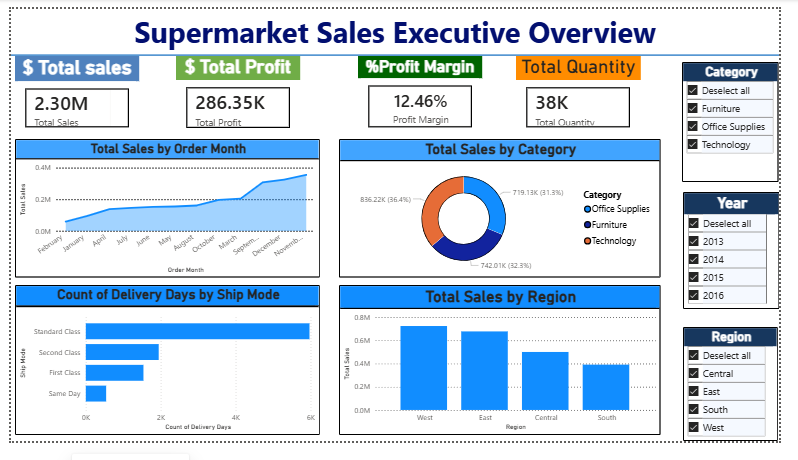

Layout of this report page (visuals, bound fields, positions):
{"tool":"powerbi","page":{"name":"Executive Overview","canvas":[1280,720],"ordinal":0},"visuals":[{"type":"textbox","box":[0,0,1280.5,87.8],"z":0},{"type":"shape","box":[0,0,1280.5,153.7],"z":1000},{"type":"cardVisual","title":"$ Total sales","fields":{"Data":["Supermarket sales.Total Sales"]},"box":[7.3,79,207,136],"z":2000},{"type":"cardVisual","title":"$ Total Profit ","fields":{"Data":["Supermarket sales.Total Profit"]},"box":[275.1,79,207,137.6],"z":3000},{"type":"cardVisual","title":"Total Quantity","fields":{"Data":["Supermarket sales.Total Quantity"]},"box":[841.5,79,207.8,136.1],"z":4000},{"type":"cardVisual","title":"%Profit Margin","fields":{"Data":["Supermarket sales.Profit Margin"]},"box":[578,79,207,136.1],"z":5000},{"type":"lineChart","fields":{"Y":["Supermarket sales.Total Sales"],"Category":["Supermarket sales.Order Month"]},"box":[7.3,216.6,507.8,231.2],"z":6000},{"type":"donutChart","fields":{"Category":["Supermarket sales.Category"],"Y":["Supermarket sales.Total Sales"]},"box":[547.3,216.6,535.6,231.2],"z":7000},{"type":"clusteredColumnChart","fields":{"Y":["Supermarket sales.Total Sales"],"Category":["Supermarket sales.Region"]},"box":[547.3,459.5,535.6,250.2],"z":8000},{"type":"clusteredBarChart","fields":{"Y":["CountNonNull(Supermarket sales.Delivery Days)"],"Category":["Supermarket sales.Ship Mode"]},"box":[7.3,459.5,507.8,250.2],"z":9000},{"type":"listSlicer","fields":{"Values":["Supermarket sales.Category"]},"box":[1118,87.8,161,200.5],"z":10000},{"type":"listSlicer","title":"Year","fields":{"Values":["Supermarket sales.Order Year"]},"box":[1119.5,304.4,161,194.6],"z":11000},{"type":"listSlicer","fields":{"Values":["Supermarket sales.Region"]},"box":[1119.5,529.8,158,190.2],"z":12000}]}

Visuals, with their boxes in screenshot pixels (x1, y1, x2, y2), scaled from the page's 1280x720 canvas onto the 798x460 screenshot:
textbox: [x1=0, y1=0, x2=797, y2=56]
shape: [x1=0, y1=0, x2=797, y2=98]
"$ Total sales" cardVisual: [x1=5, y1=50, x2=134, y2=137]
"$ Total Profit " cardVisual: [x1=172, y1=50, x2=301, y2=138]
"Total Quantity" cardVisual: [x1=525, y1=50, x2=654, y2=137]
"%Profit Margin" cardVisual: [x1=360, y1=50, x2=489, y2=137]
lineChart - Supermarket sales.Total Sales x Supermarket sales.Order Month: [x1=5, y1=138, x2=321, y2=286]
donutChart - Supermarket sales.Category x Supermarket sales.Total Sales: [x1=341, y1=138, x2=675, y2=286]
clusteredColumnChart - Supermarket sales.Total Sales x Supermarket sales.Region: [x1=341, y1=294, x2=675, y2=453]
clusteredBarChart - CountNonNull(Supermarket sales.Delivery Days) x Supermarket sales.Ship Mode: [x1=5, y1=294, x2=321, y2=453]
listSlicer - Supermarket sales.Category: [x1=697, y1=56, x2=797, y2=184]
"Year" listSlicer: [x1=698, y1=194, x2=797, y2=319]
listSlicer - Supermarket sales.Region: [x1=698, y1=338, x2=796, y2=459]
